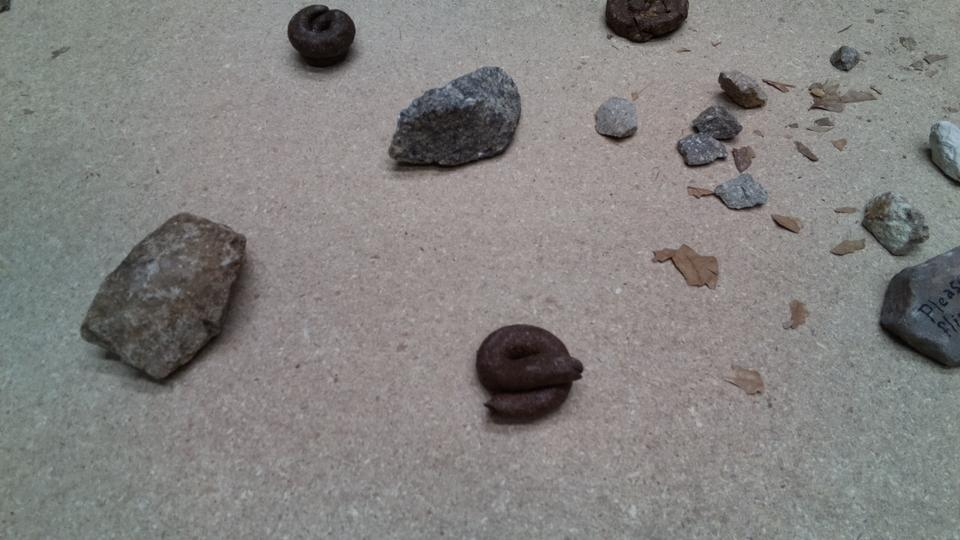poop: (474, 321, 587, 424), (286, 3, 358, 69), (602, 1, 691, 45)
